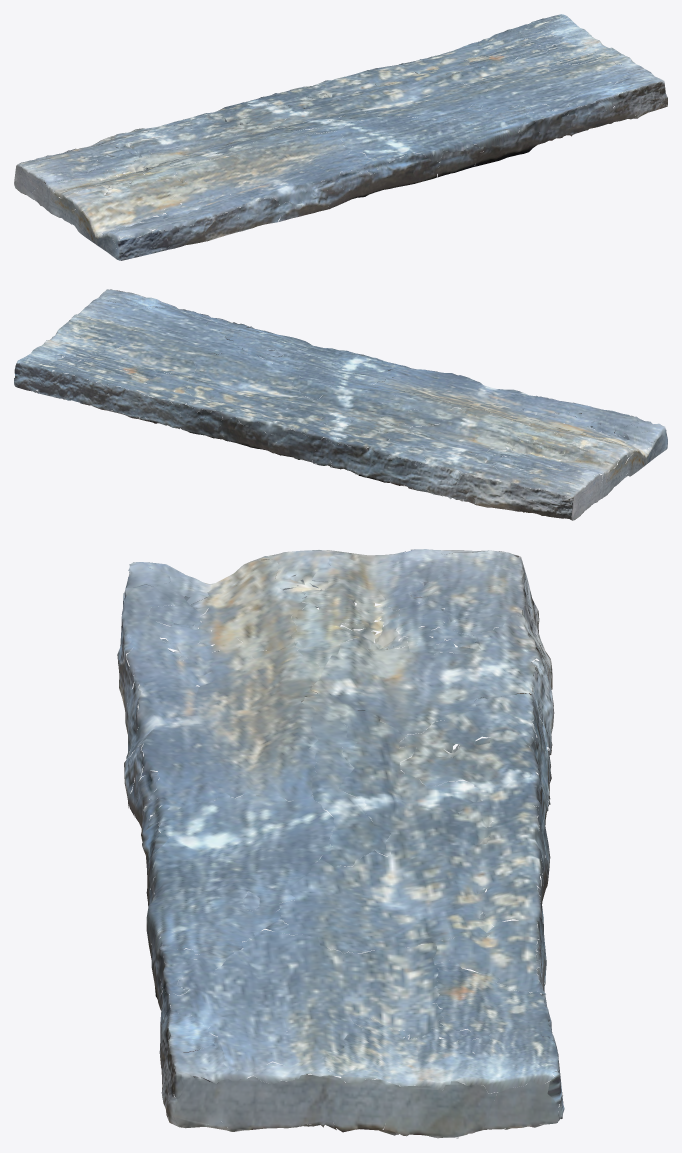
The model's file is Stepping_stones_3.glb.
3 renders of one model, top to bottom at view 1: azimuth 30°, elevation 25°; view 2: azimuth 150°, elevation 25°; view 3: azimuth 270°, elevation 25°, orthographic. The views are drawn at different scales.
Visible parts, largest first — view 1: Object_2.001; view 2: Object_2.001; view 3: Object_2.001.
Boxes of the visible parts, left/top/right/bottom form: Object_2.001: left=14, top=14, right=667, bottom=260; Object_2.001: left=14, top=289, right=667, bottom=520; Object_2.001: left=117, top=549, right=564, bottom=1138.
Size of the model in its own units: 0.9422 by 0.0588 by 0.3285.
1 material, 1 textured.
